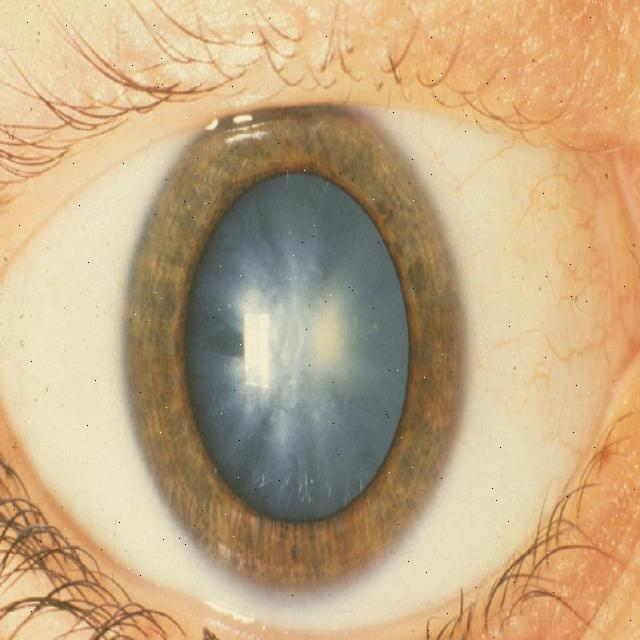Cataract: (124, 83, 474, 612)
